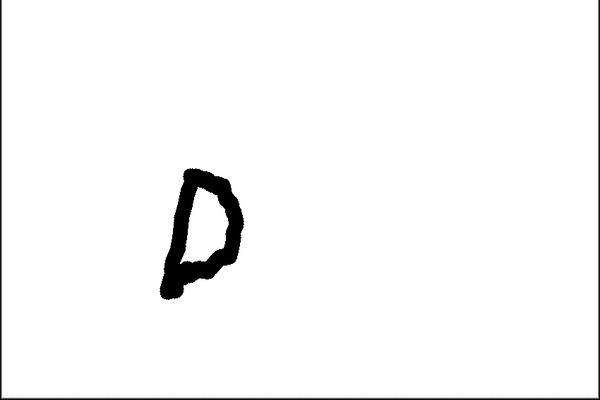D: (156, 164, 247, 304)
